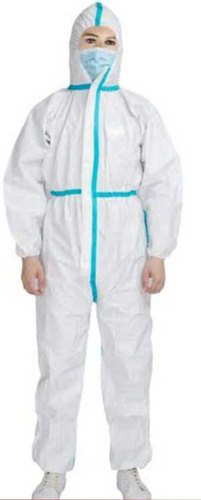Coverall: (1, 1, 182, 498)
with_mask: (80, 47, 116, 78)
